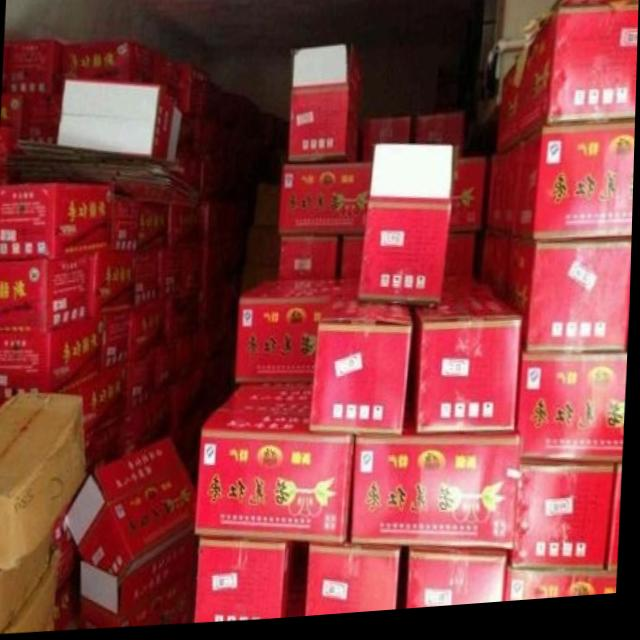box: (354, 409, 524, 560), (197, 390, 354, 548), (498, 11, 639, 162), (66, 441, 200, 579), (488, 125, 636, 247), (413, 281, 525, 441), (482, 244, 633, 359), (312, 282, 416, 438), (0, 393, 86, 568), (360, 150, 453, 311), (518, 357, 629, 472), (513, 468, 620, 578), (236, 280, 336, 391), (82, 537, 202, 627), (58, 80, 182, 165), (287, 50, 365, 168), (0, 314, 104, 401), (0, 183, 116, 260), (195, 539, 296, 626), (0, 251, 95, 332), (308, 546, 402, 621), (281, 165, 373, 239), (408, 552, 513, 615), (58, 366, 129, 450), (0, 533, 51, 633), (65, 38, 158, 87), (508, 575, 621, 610), (5, 567, 59, 634), (449, 162, 493, 242), (2, 36, 56, 95), (94, 251, 140, 316), (279, 237, 338, 285), (125, 351, 157, 421), (102, 308, 133, 379), (364, 123, 411, 168), (159, 293, 193, 348), (417, 122, 462, 163), (135, 247, 165, 308), (131, 302, 161, 362), (161, 246, 193, 302), (178, 67, 211, 119), (110, 198, 142, 251), (138, 202, 171, 251), (164, 204, 199, 250), (153, 342, 181, 396), (446, 240, 476, 282)
